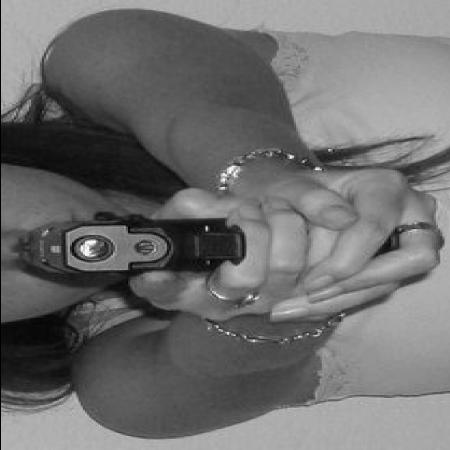Pistol: (15, 224, 243, 274)
